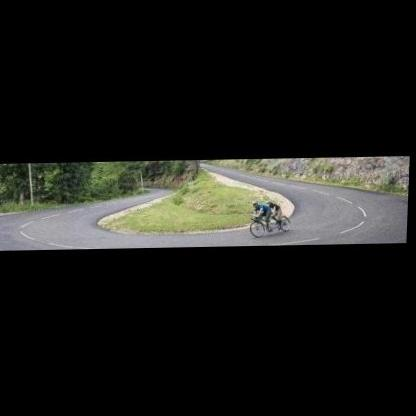Bicycle: (246, 211, 296, 241)
